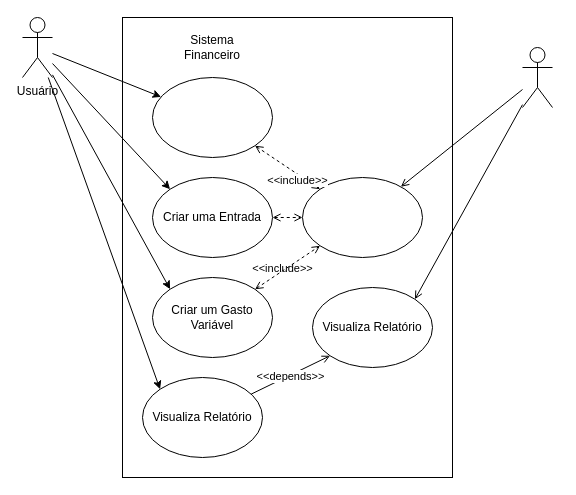
Image size: 576x495. Some labels were removed from this diagram. The centre of each missing label's shape, as x and y in pixels:
Calcular o Valor Total: point (362, 217)
Criar um Gasto Fixo: point (212, 117)
Sistema: point (537, 77)
